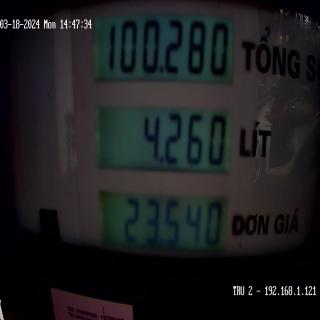screen: (90, 4, 239, 282)
